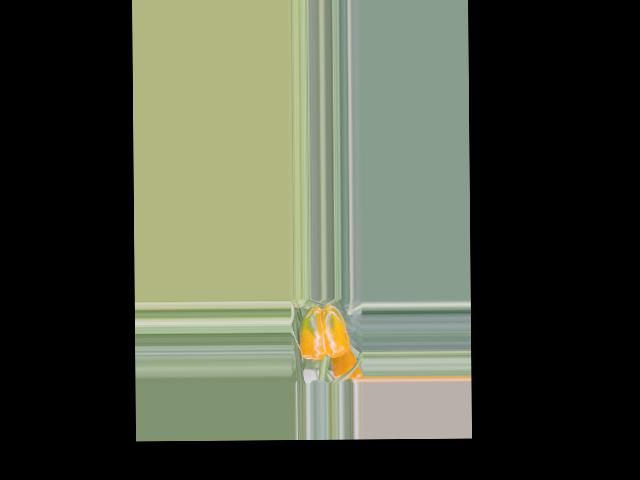bell_pepper: (292, 300, 352, 366)
